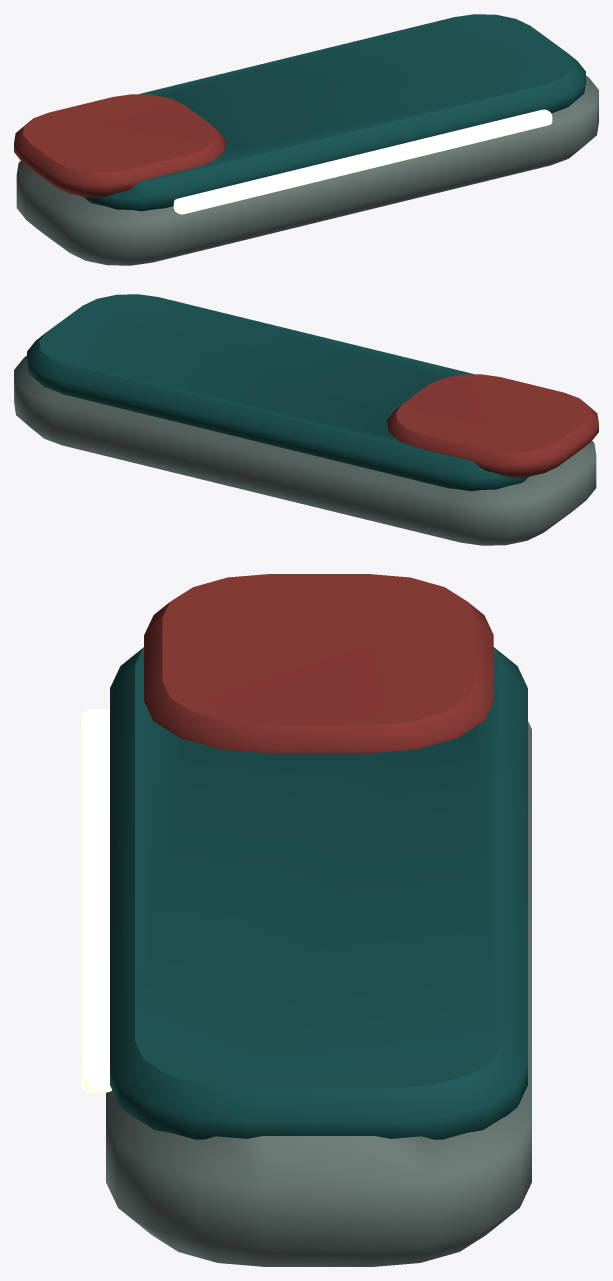
File: upgrade_copper_arch.glb
3 views of the same model, one above another, from view 1: azimuth 30°, elevation 25°; view 2: azimuth 150°, elevation 25°; view 3: azimuth 270°, elevation 25° (orthographic). The views are drawn at different scales.
Parts seen in each view (by area): view 1: UpgradeCopperArch; view 2: UpgradeCopperArch; view 3: UpgradeCopperArch.
Part boxes in pixels (left/top/right/bottom): UpgradeCopperArch: left=14, top=14, right=598, bottom=265; UpgradeCopperArch: left=14, top=294, right=598, bottom=545; UpgradeCopperArch: left=81, top=574, right=531, bottom=1266.
Size of the model in its own units: 4.75 by 0.8487 by 1.71.
